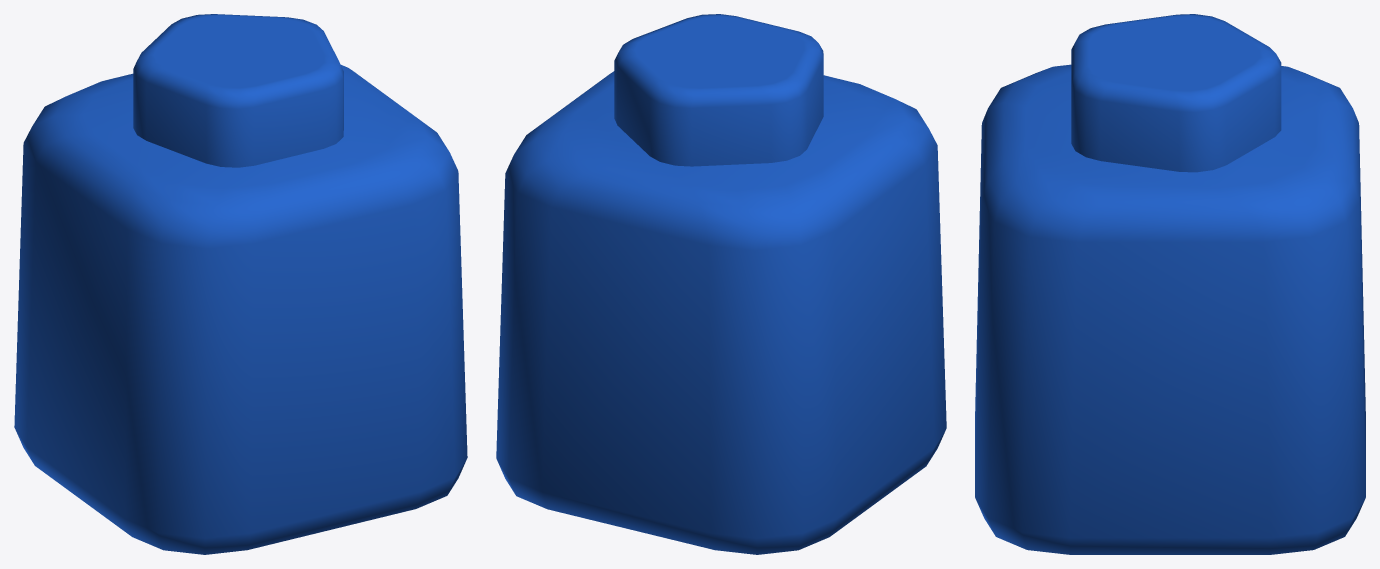
Rendered from block_pentagon.fbx.
The picture shows the model from 3 angles, left to right: view 1: azimuth 30°, elevation 25°; view 2: azimuth 150°, elevation 25°; view 3: azimuth 270°, elevation 25°; orthographic projection. The views are drawn at different scales.
Visible parts, largest first — view 1: block_pentagon; view 2: block_pentagon; view 3: block_pentagon.
Part boxes in pixels (x1,y1,x2,y2): block_pentagon: (14,14,467,554); block_pentagon: (496,14,946,554); block_pentagon: (975,14,1365,554).
Size of the model in its own units: 98.38 by 98.38 by 120.
